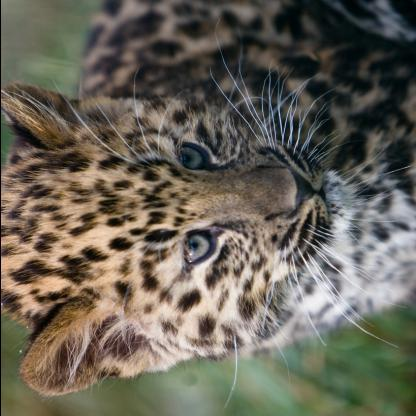leopard: (1, 79, 341, 398)
